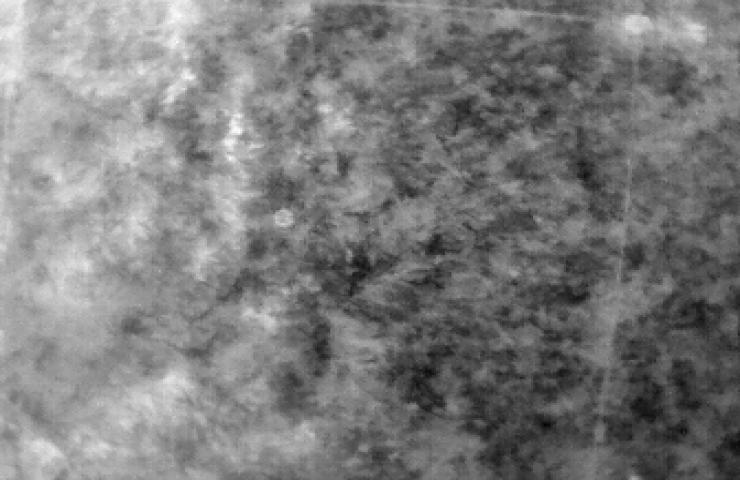landmines: (271, 206, 299, 232)
